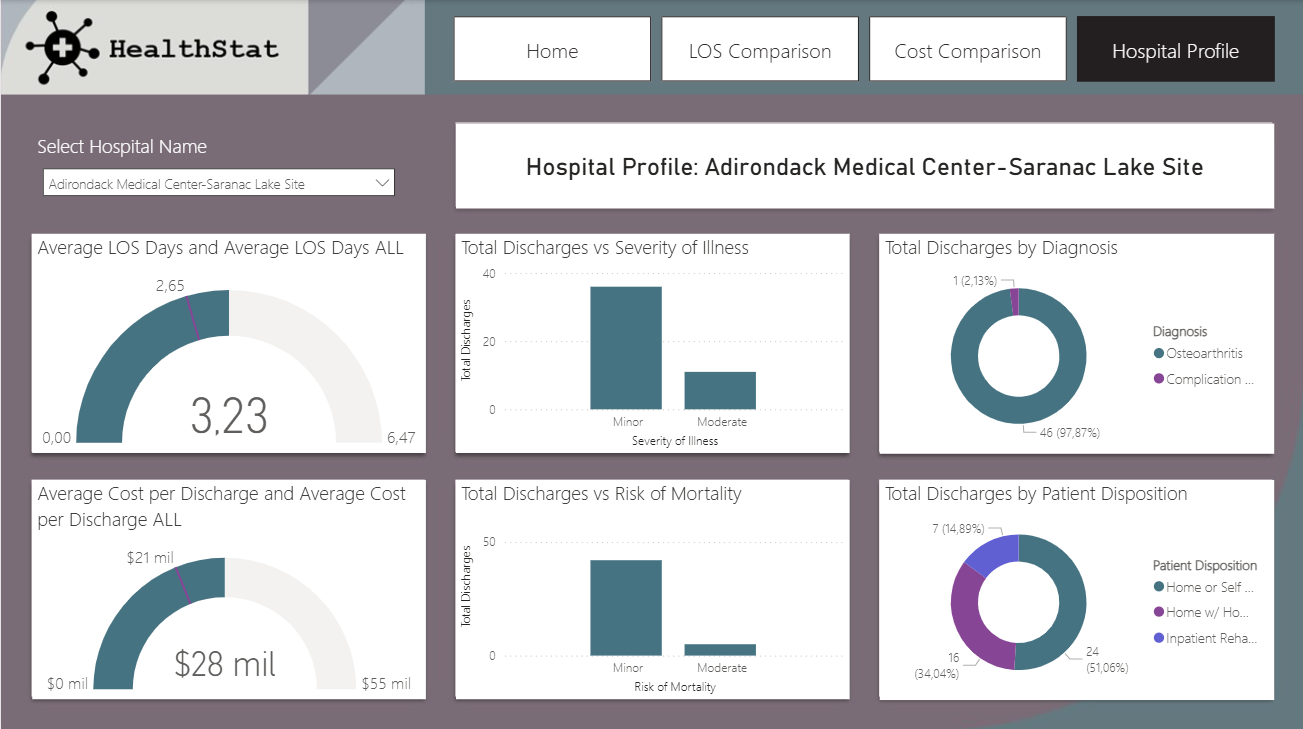

What the dashboard file says about the page in this screenshot:
{"tool":"powerbi","page":{"name":"Hospital Profile","canvas":[1280,720],"ordinal":3},"visuals":[{"type":"gauge","title":"Average LOS Days and Average LOS Days ALL","fields":{"Y":["_Measures.Average LOS Days"],"TargetValue":["_Measures.Average LOS Days ALL"]},"box":[31.1,230,386.7,215.6],"z":0},{"type":"gauge","title":"Average Cost per Discharge and Average Cost per Discharge ALL","fields":{"Y":["_Measures.Average Cost per Discharge"],"TargetValue":["_Measures.Average Cost per Discharge ALL"]},"box":[31.1,471.1,386.7,215.6],"z":1000},{"type":"clusteredColumnChart","title":"Total Discharges vs Severity of Illness","fields":{"Y":["_Measures.Total Discharges"],"Category":["hospital_discharges.apr_severity_of_illness_description"]},"box":[446.7,230,386.7,215.6],"z":2000},{"type":"clusteredColumnChart","title":"Total Discharges vs Risk of Mortality","fields":{"Y":["_Measures.Total Discharges"],"Category":["hospital_discharges.apr_risk_of_mortality"]},"box":[446.7,471.1,386.7,215.6],"z":3000},{"type":"donutChart","title":"Total Discharges by Diagnosis","fields":{"Y":["_Measures.Total Discharges"],"Category":["hospital_discharges.ccs_diagnosis_description"]},"box":[862.9,230,387.1,215.7],"z":4000},{"type":"donutChart","title":"Total Discharges by Patient Disposition","fields":{"Y":["_Measures.Total Discharges"],"Category":["hospital_discharges.patient_disposition"]},"box":[862.9,471.4,387.1,215.7],"z":5000},{"type":"slicer","title":"Select Hospital Name","fields":{"Values":["hospital_discharges.facility_name"]},"box":[30.8,130,366.2,74.6],"z":6000},{"type":"card","fields":{"Values":["_Measures.Title Selected Facility"]},"box":[446.9,121.5,803.1,83.1],"z":7000},{"type":"pageNavigator","box":[444.3,15.7,808.6,64.3],"z":7001}]}

Visuals, with their boxes in screenshot pixels (x1, y1, x2, y2), scaled from the page's 1280x720 canvas onto the 1303x729 screenshot:
"Average LOS Days and Average LOS Days ALL" gauge: [32, 233, 425, 451]
"Average Cost per Discharge and Average Cost per Discharge ALL" gauge: [32, 477, 425, 695]
"Total Discharges vs Severity of Illness" clusteredColumnChart: [455, 233, 848, 451]
"Total Discharges vs Risk of Mortality" clusteredColumnChart: [455, 477, 848, 695]
"Total Discharges by Diagnosis" donutChart: [878, 233, 1272, 451]
"Total Discharges by Patient Disposition" donutChart: [878, 477, 1272, 696]
"Select Hospital Name" slicer: [31, 132, 404, 207]
card - _Measures.Title Selected Facility: [455, 123, 1272, 207]
pageNavigator: [452, 16, 1275, 81]
